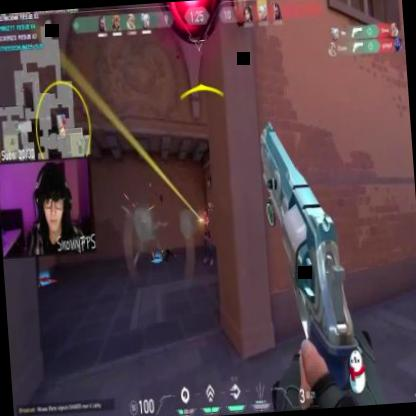enemy: (200, 206, 214, 266)
enemy_head: (203, 208, 208, 217)
